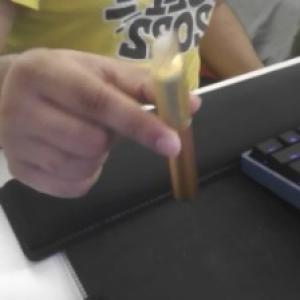Golden-E-Ciggirate: (143, 33, 204, 205)
